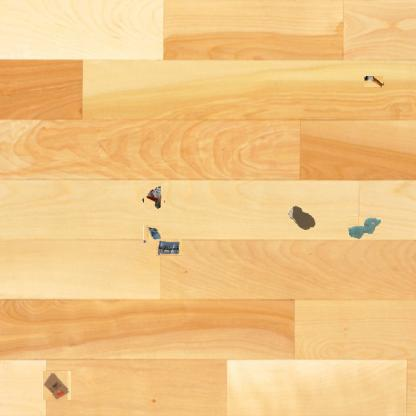dirty: (42, 370, 71, 400), (142, 184, 166, 208), (156, 240, 182, 258), (144, 225, 162, 244), (364, 75, 384, 87)
liquid: (347, 216, 381, 240), (288, 205, 316, 231)
